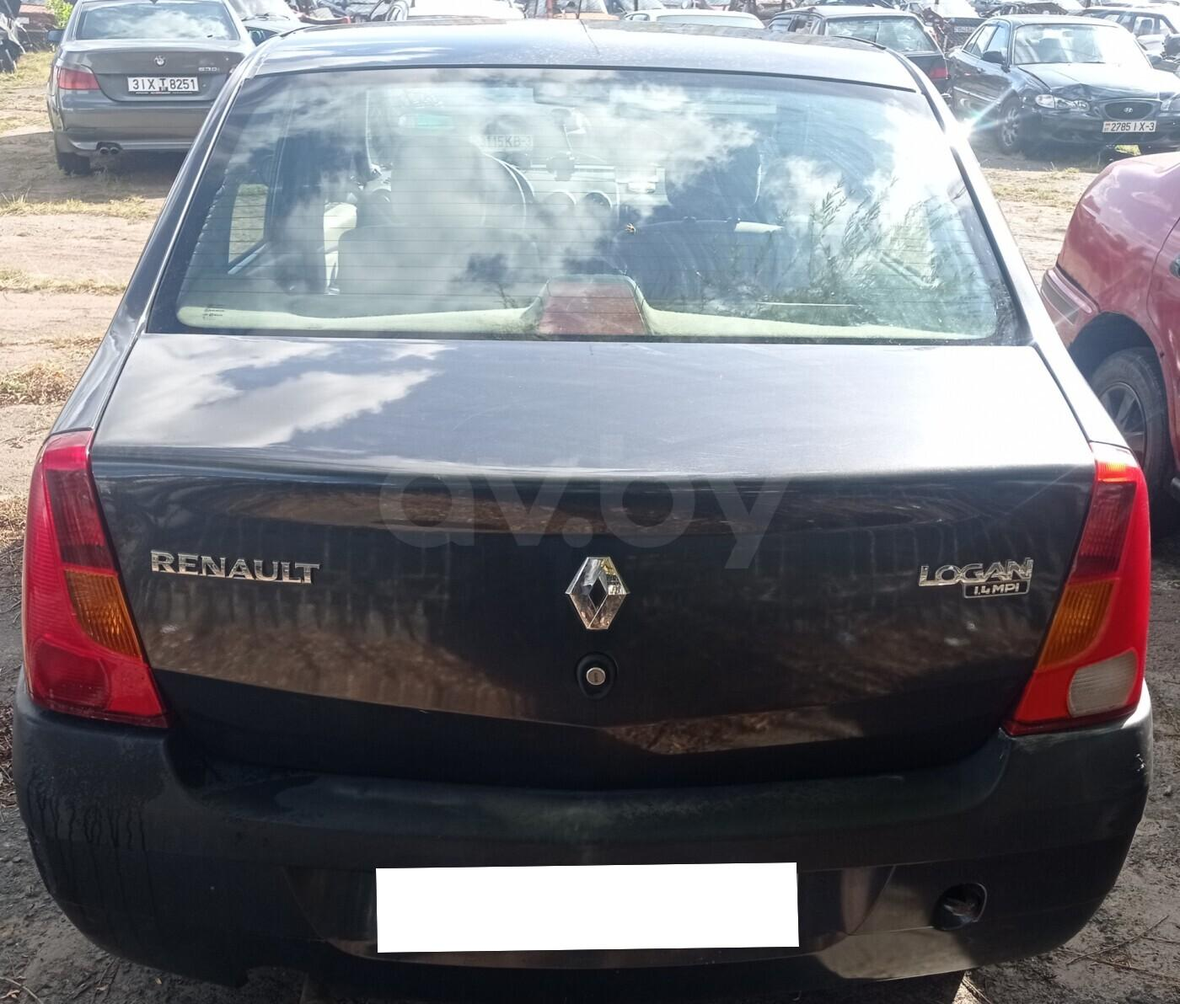Logan_2004-2009: (4, 14, 1158, 1004)
